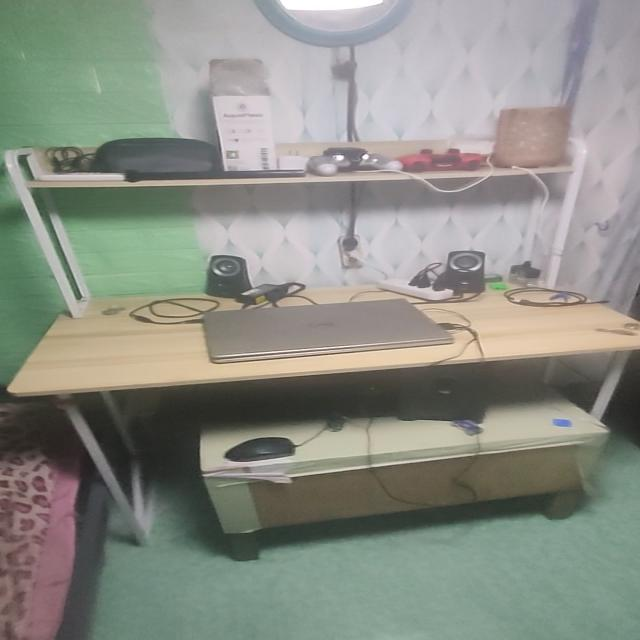table: (0, 270, 640, 548)
